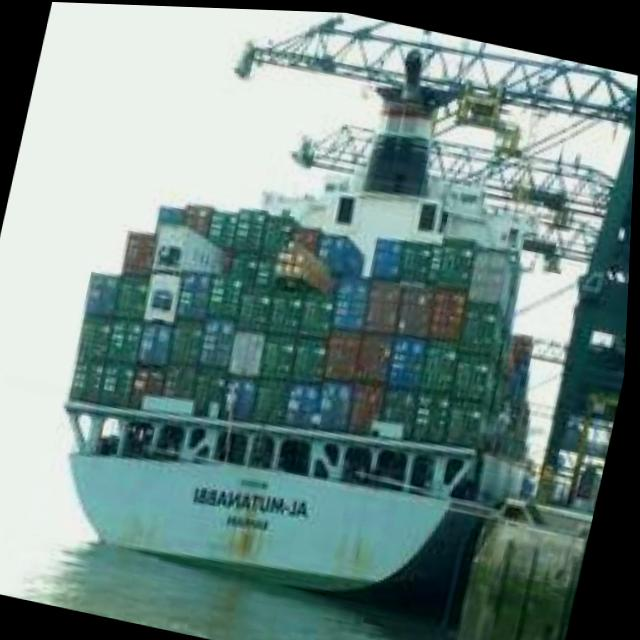ship2: (67, 48, 543, 612)
